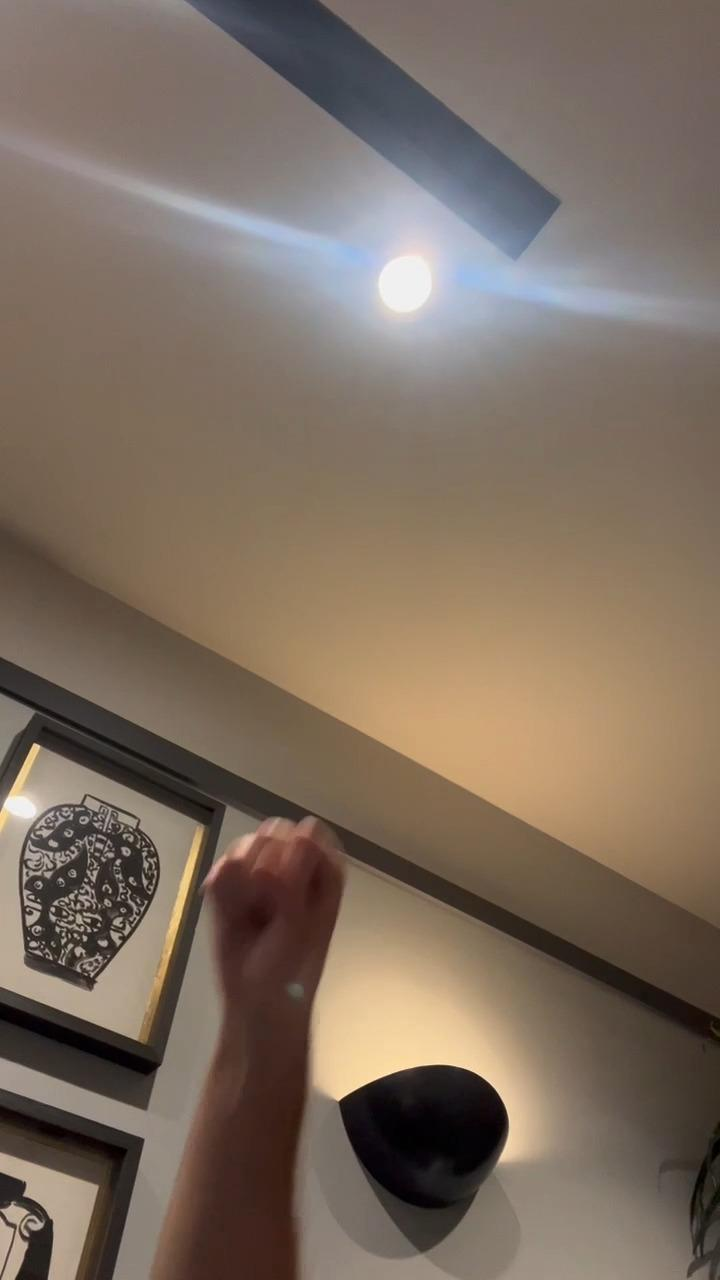Rock: (202, 820, 347, 986)
